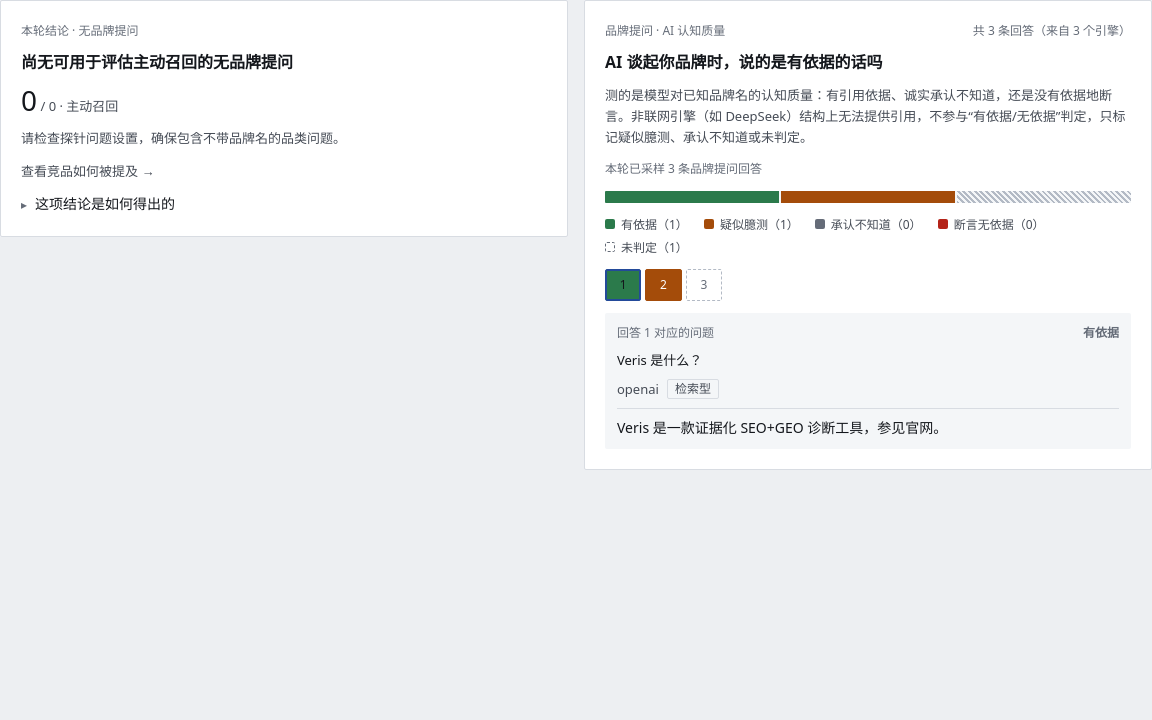
it: PresenceMap › 点击非联网引擎（undetermined）格子：显示记忆型徽标与无引用能力提示
Click the button "3" at (704, 285), box [686,269,722,301]
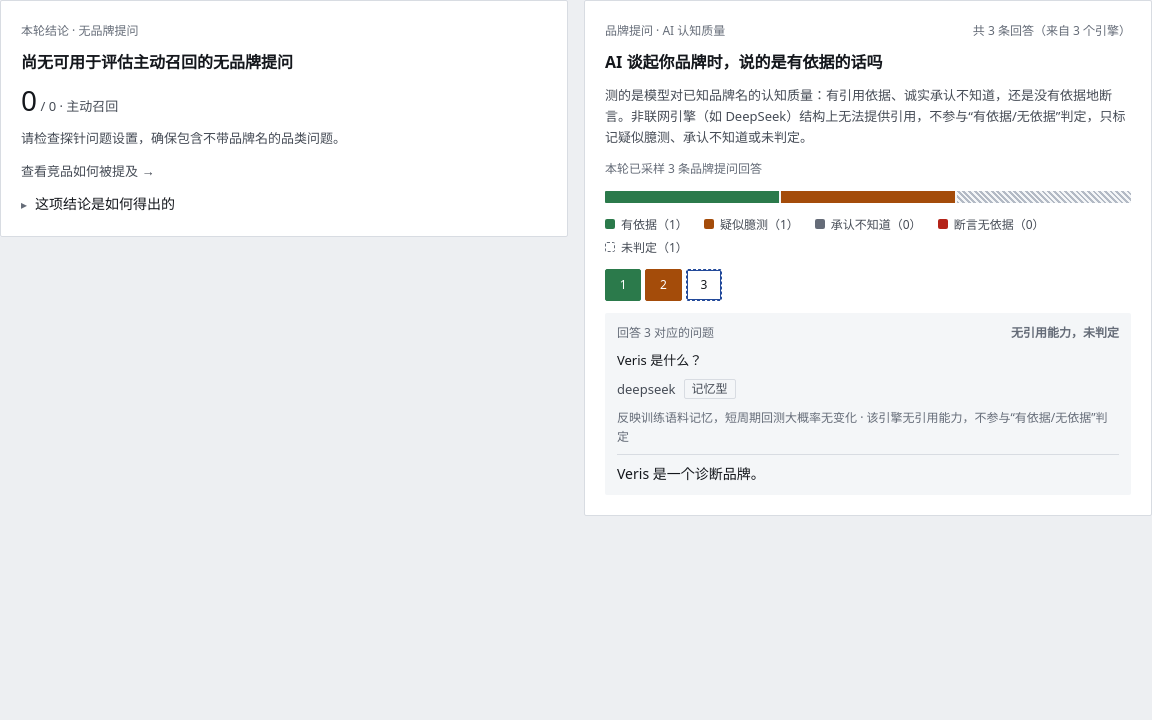
Check: the text "记忆型" is shown, box [684,379,736,399]
Check: the text "反映训练语料记忆，短周期回测大概率无变化 · 该引擎无引用能力，不参与“有依据/无依据”判定" is shown, box [617,408,1119,446]
